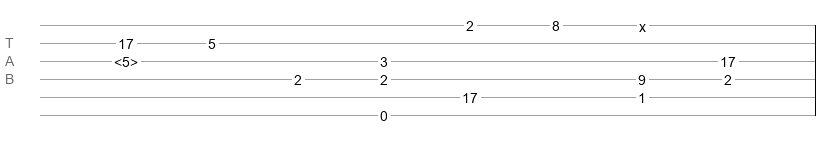0: (380, 108, 388, 118)
1: (638, 90, 646, 100)
17: (118, 36, 134, 46), (462, 90, 478, 100), (720, 54, 736, 64)
2: (294, 72, 302, 82), (380, 72, 388, 82), (466, 18, 474, 28), (724, 72, 732, 82)
3: (380, 54, 388, 64)
5: (208, 36, 216, 46)
8: (552, 18, 560, 28)
9: (638, 72, 646, 82)
harmonic: (114, 54, 138, 64)
x: (639, 19, 646, 27)
